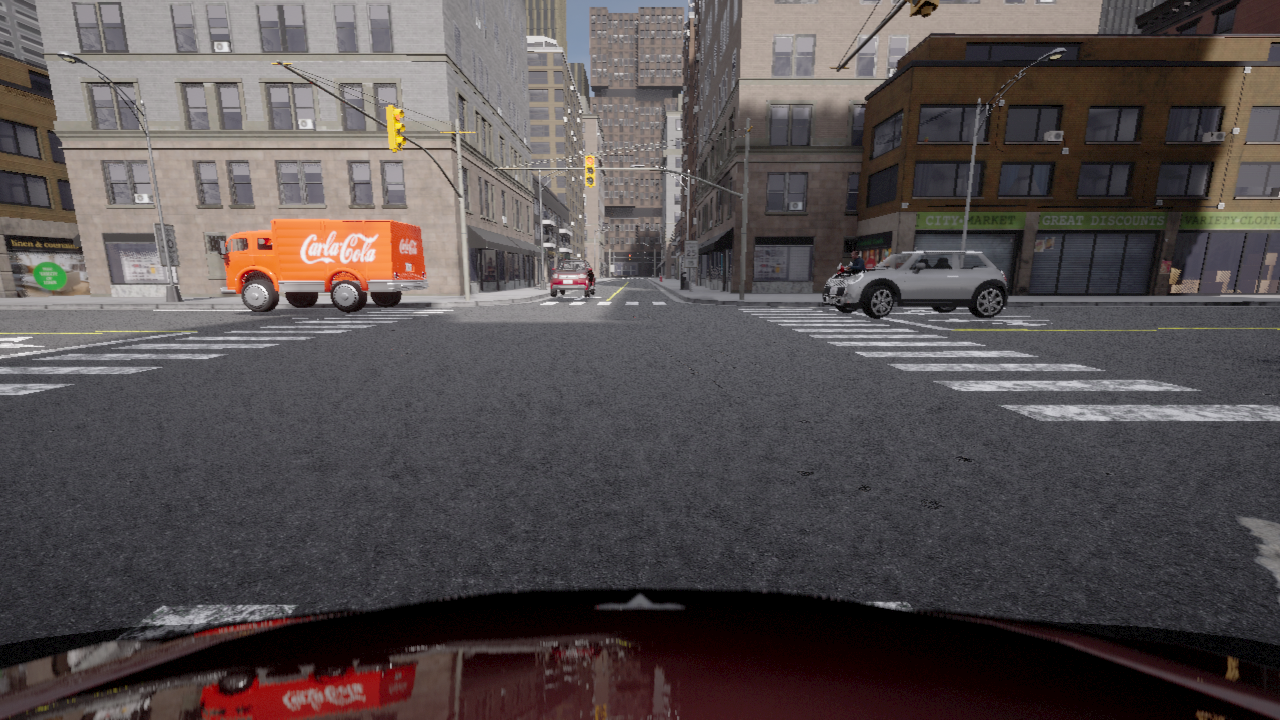cyclist: (0, 588, 1279, 719), (216, 219, 428, 312), (822, 250, 1008, 318), (550, 259, 595, 296), (822, 262, 851, 294)
